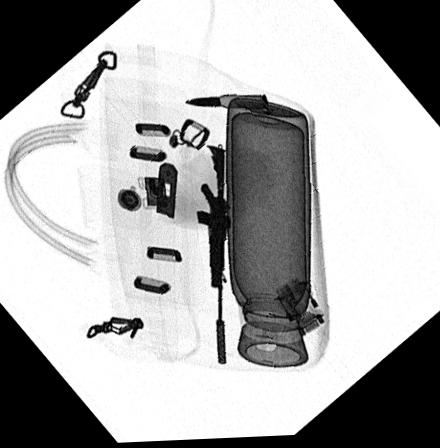Bullet: (183, 96, 267, 111)
Gun: (196, 144, 232, 367)
